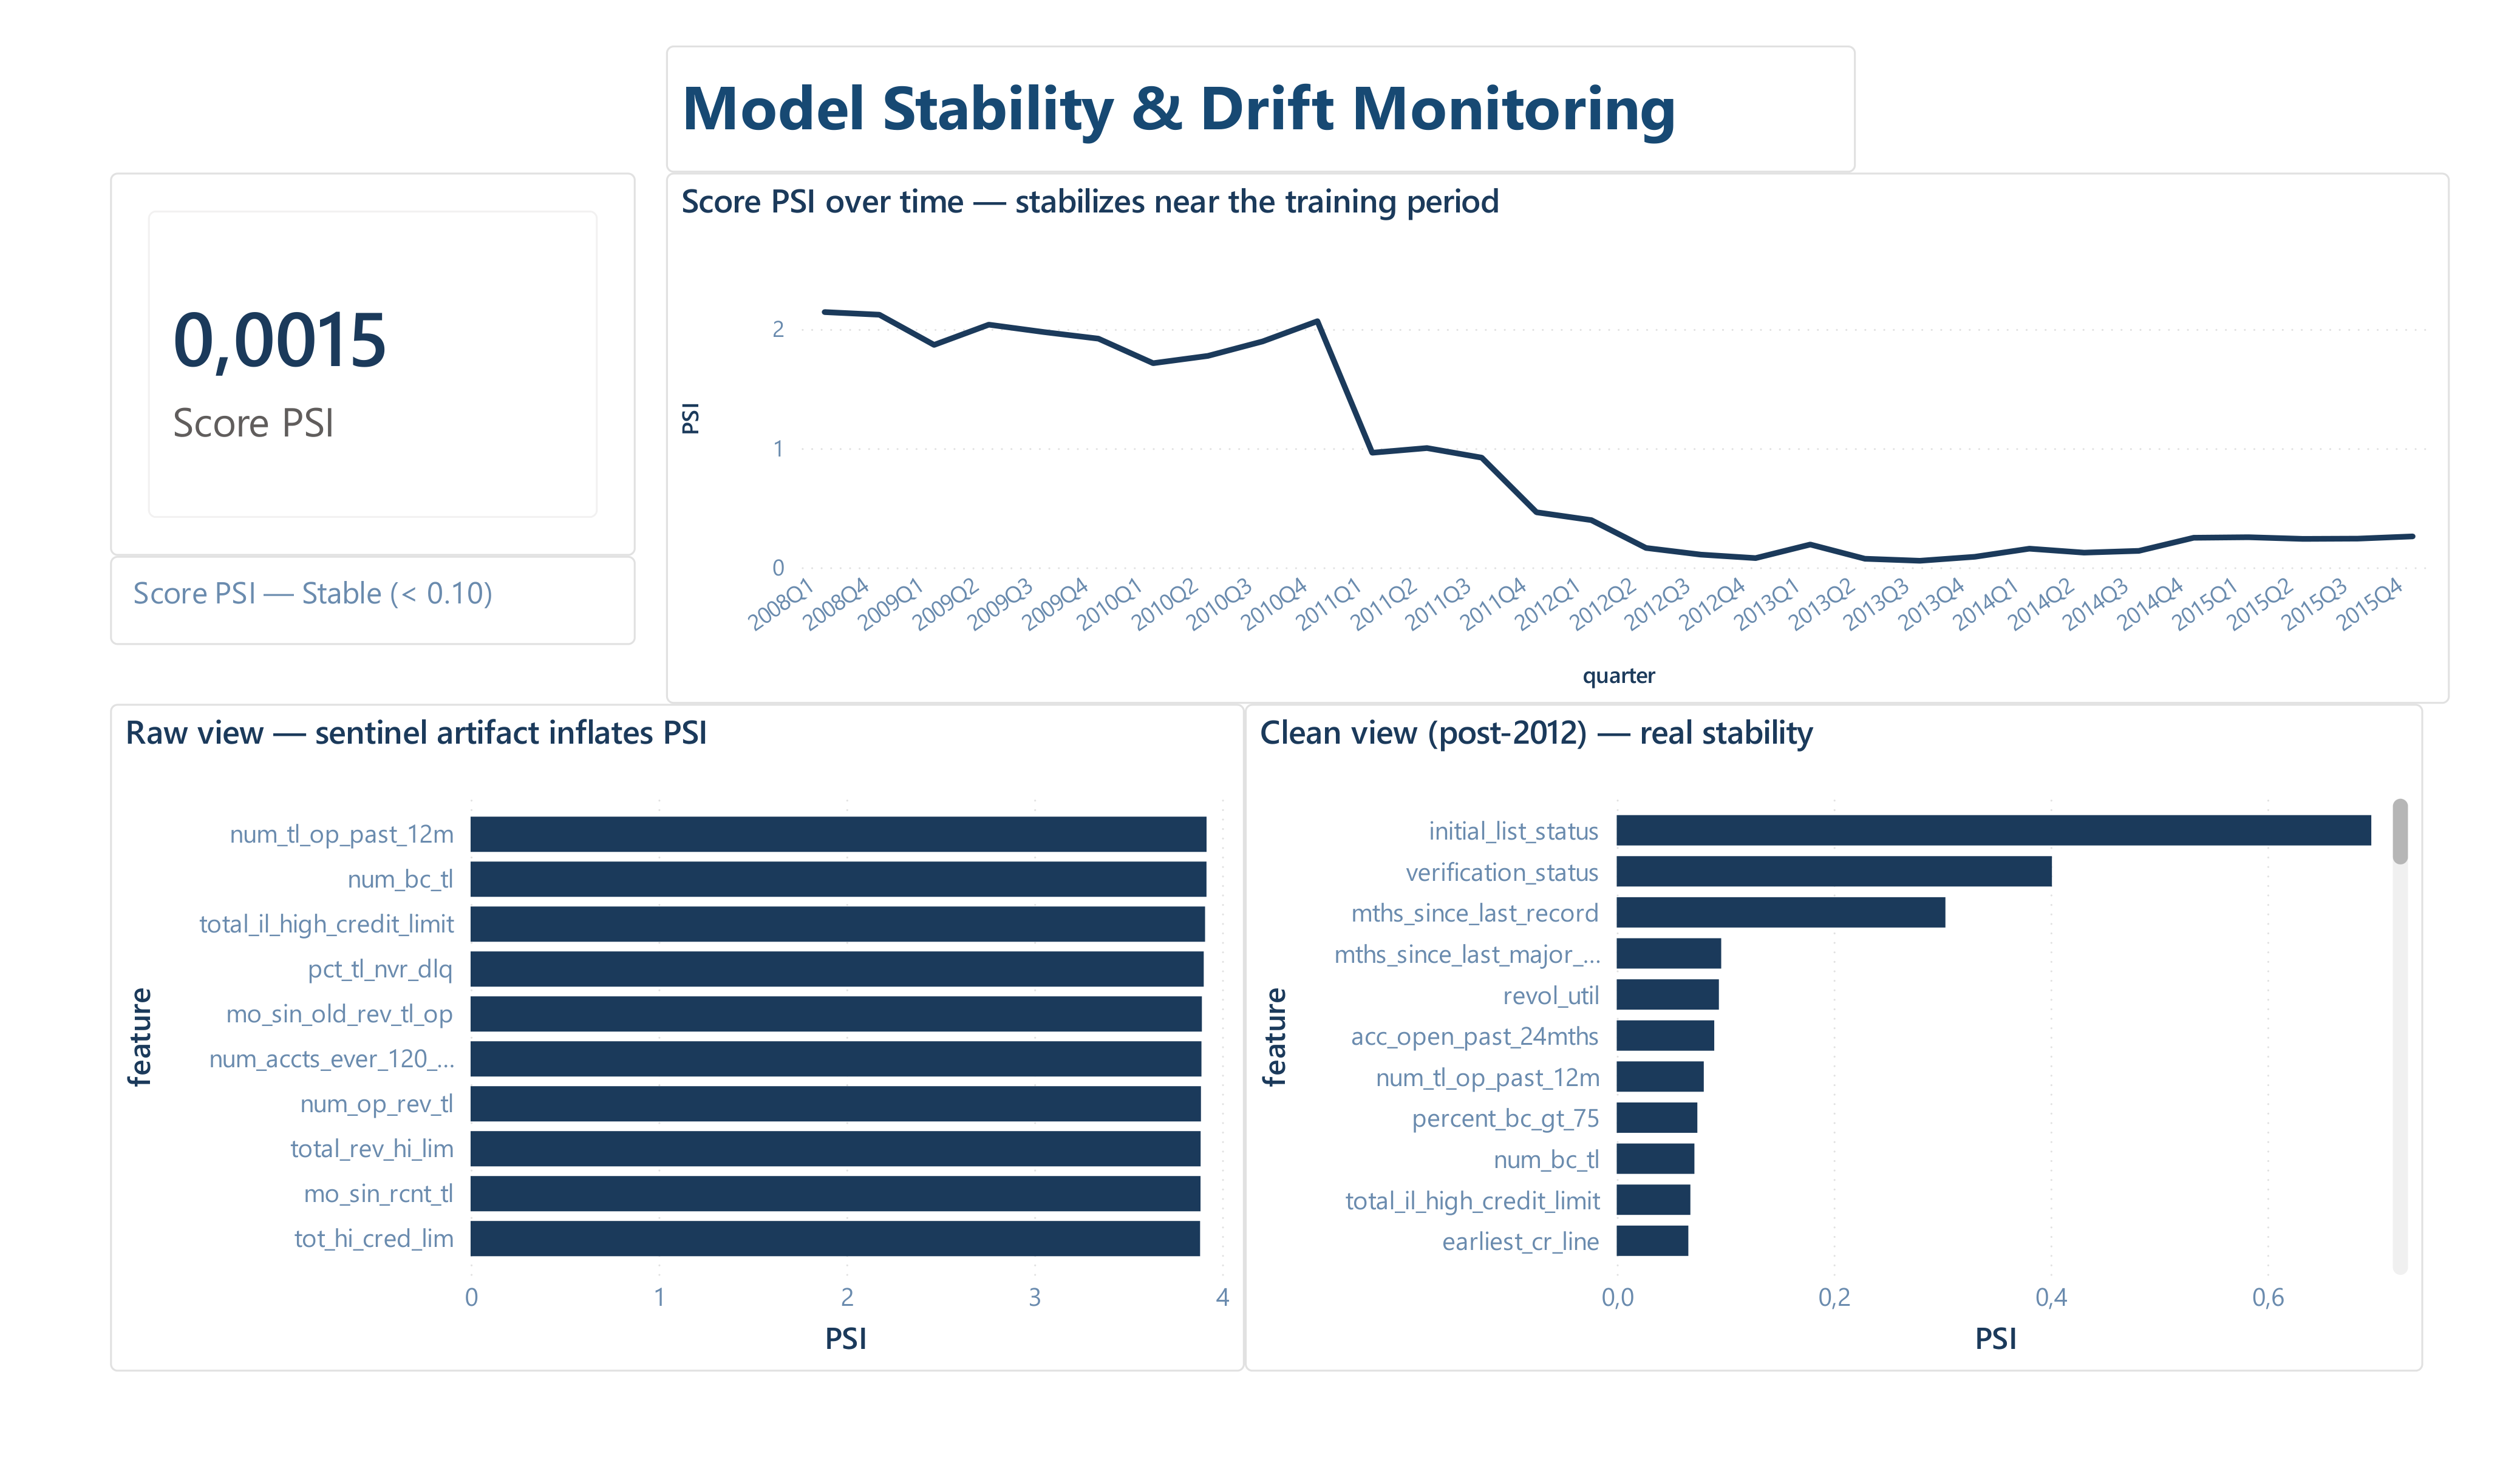

The page's visual inventory and layout, read from the dashboard file:
{"tool":"powerbi","page":{"name":"Stability (PSI)","canvas":[1280,720],"ordinal":1},"visuals":[{"type":"cardVisual","fields":{"Data":["psi_splits_raw.Score PSI"]},"box":[33.7,67.4,277.5,201.3],"z":0},{"type":"textbox","box":[33.7,268.7,277.5,47],"z":1000},{"type":"lineChart","title":"Score PSI over time — stabilizes near the training period","fields":{"Category":["psi_quarterly.quarter"],"Y":["Sum(psi_quarterly.psi)"]},"box":[327.2,67.4,939.9,279.3],"z":2000},{"type":"clusteredBarChart","title":"Raw view — sentinel artifact inflates PSI","fields":{"Category":["psi_splits_raw.feature"],"Y":["Sum(psi_splits_raw.psi)"]},"box":[33.7,346.7,598.5,352],"z":3000},{"type":"clusteredBarChart","title":"Clean view (post-2012) — real stability","fields":{"Category":["psi_splits_clean.feature"],"Y":["Sum(psi_splits_clean.psi)"]},"box":[632.2,346.7,620.7,352],"z":4000},{"type":"textbox","box":[327.2,0,626.9,67.4],"z":5000}]}

Visuals, with their boxes on the page's 1280x720 design canvas (x1, y1, x2, y2). These are canvas units, not pixel positions in the 2520x1457 screenshot, which may show the page scaled, cropped or inside an application window:
cardVisual - psi_splits_raw.Score PSI: left=34, top=67, right=311, bottom=269
textbox: left=34, top=269, right=311, bottom=316
"Score PSI over time — stabilizes near the training period" lineChart: left=327, top=67, right=1267, bottom=347
"Raw view — sentinel artifact inflates PSI" clusteredBarChart: left=34, top=347, right=632, bottom=699
"Clean view (post-2012) — real stability" clusteredBarChart: left=632, top=347, right=1253, bottom=699
textbox: left=327, top=0, right=954, bottom=67
